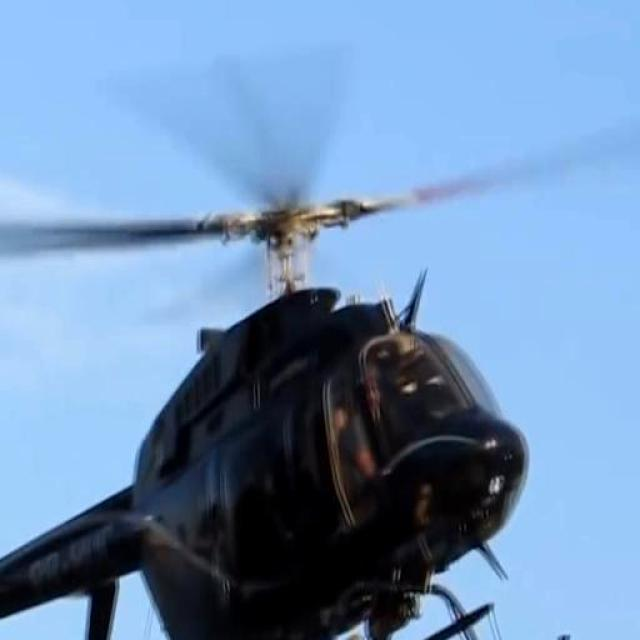drone: (0, 40, 640, 640)
